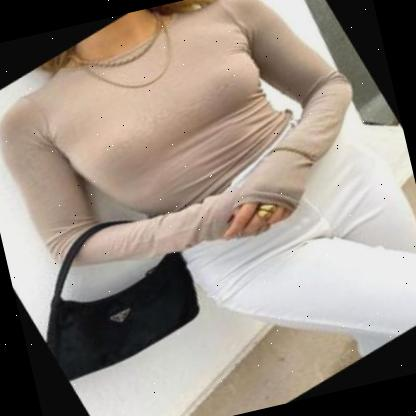bag: (16, 202, 214, 392)
